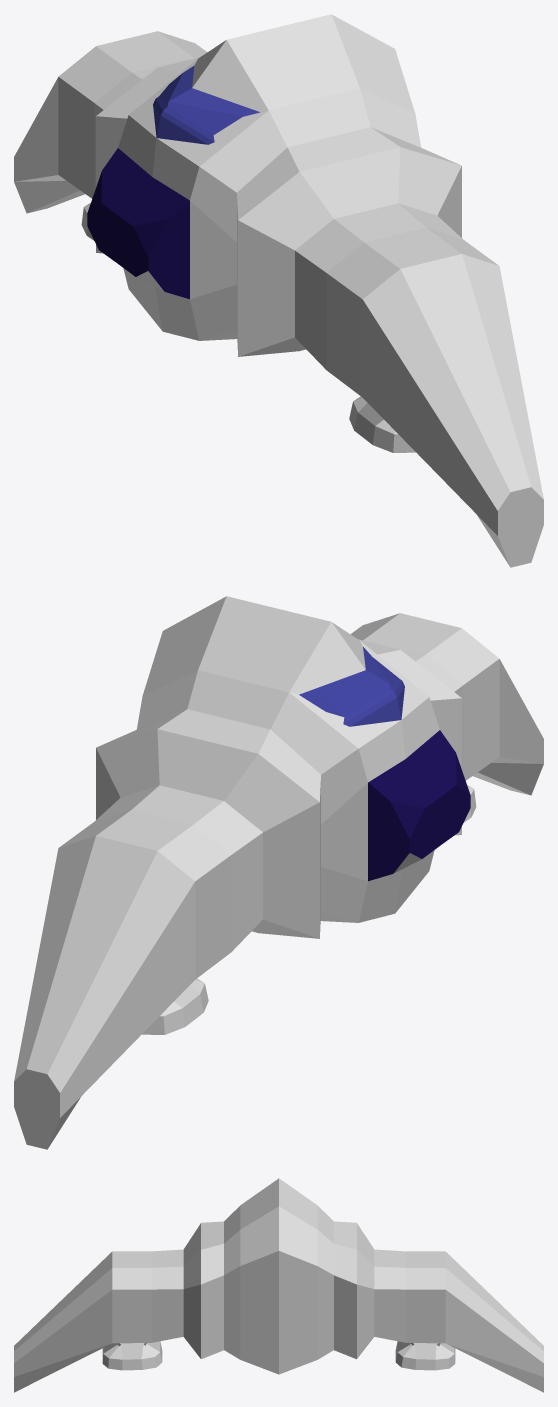
The model's file is spaceship_v2.fbx.
The picture shows the model from 3 angles, top to bottom: view 1: azimuth 30°, elevation 25°; view 2: azimuth 150°, elevation 25°; view 3: azimuth 270°, elevation 25°; orthographic projection. The views are drawn at different scales.
Parts seen in each view (by area): view 1: SpaceShip1; view 2: SpaceShip1; view 3: SpaceShip1.
Part boxes in pixels (bbox=[...]): SpaceShip1: bbox=[14, 14, 543, 567]; SpaceShip1: bbox=[14, 596, 543, 1149]; SpaceShip1: bbox=[14, 1178, 543, 1392].
Bounding box in the file's own units: 178 × 221 × 537.
